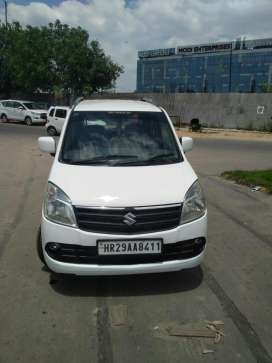nameplate: (98, 241, 163, 255)
